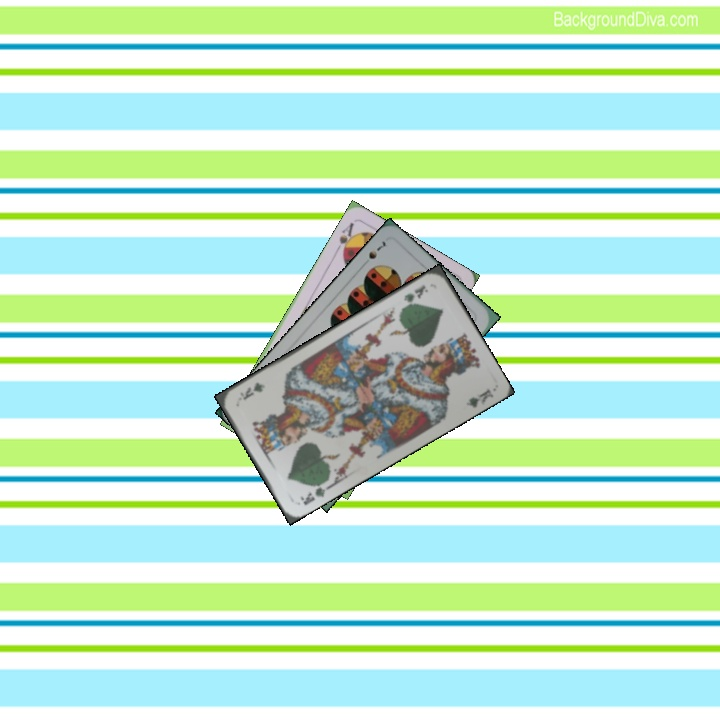GK: (296, 477, 332, 508), (399, 280, 431, 311)
S7: (358, 237, 390, 269)
SA: (331, 218, 359, 258)
